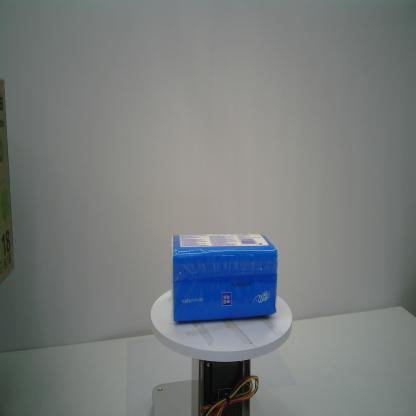Tissue: (171, 231, 279, 323)
